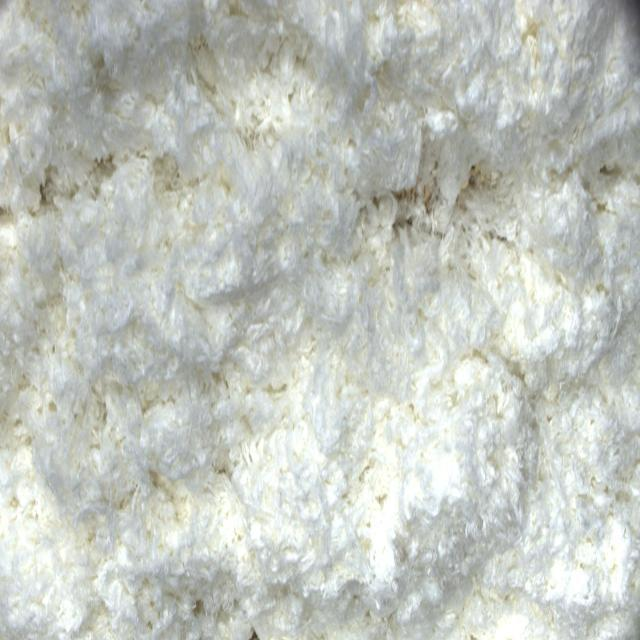dust: (392, 183, 431, 236)
